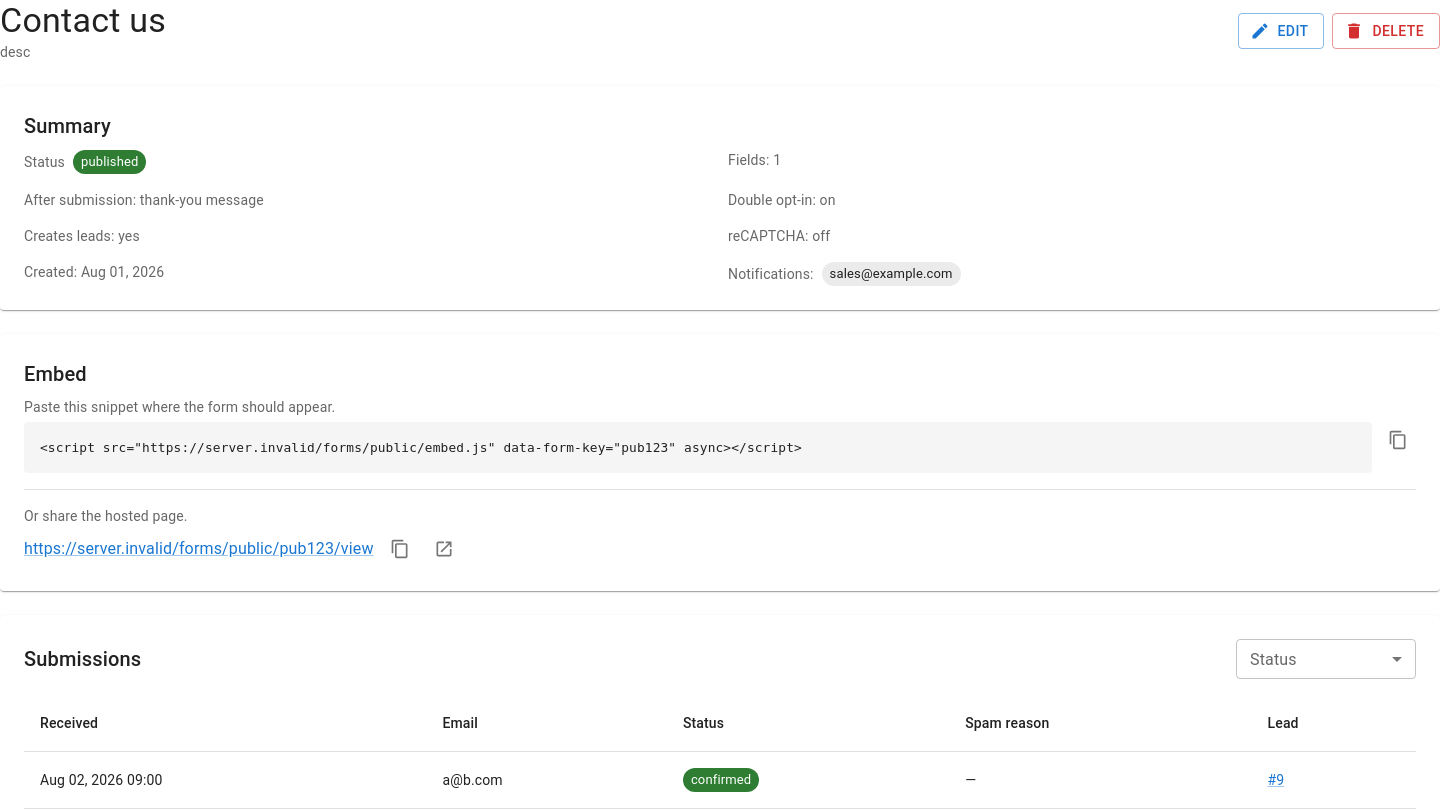
FormDetail › renders the embed snippet, hosted link and submissions
This screenshot has width=1440, height=810.
Expected: the heading "Contact us" is shown, top-left (0, 0), bottom-right (166, 42)
Expected: the text with test id "embed-snippet" shows "data-form-key=\"pub123\"", top-left (40, 440), bottom-right (802, 455)
Click the text "a@b.com": (547, 780) top-left (426, 752), bottom-right (667, 808)
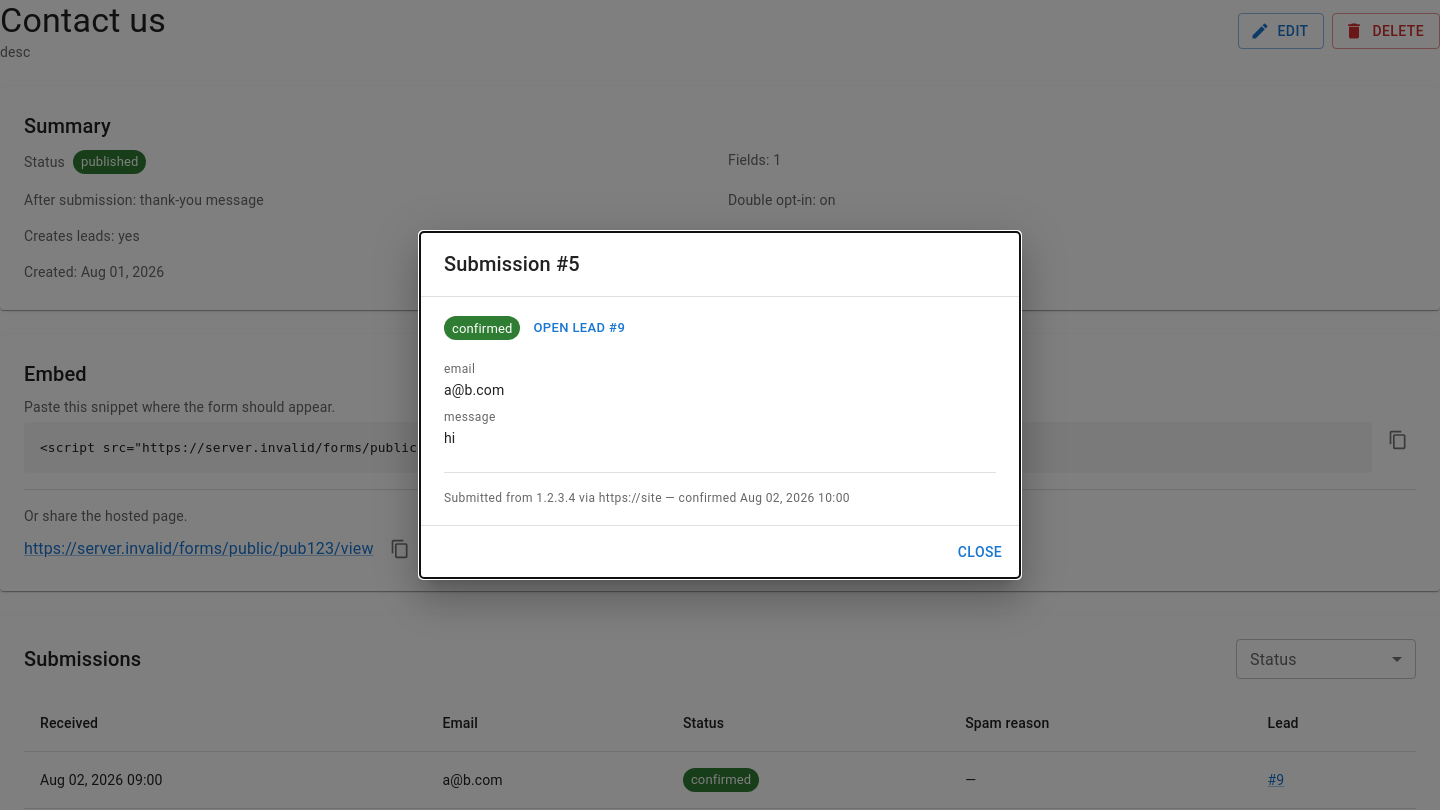
Now the heading "Submission #5" is shown, box top-left (444, 252), bottom-right (580, 276)
Now the text "hi" is shown, box top-left (444, 430), bottom-right (455, 446)
Now the button "Open lead #9" is shown, box top-left (528, 313), bottom-right (630, 344)
